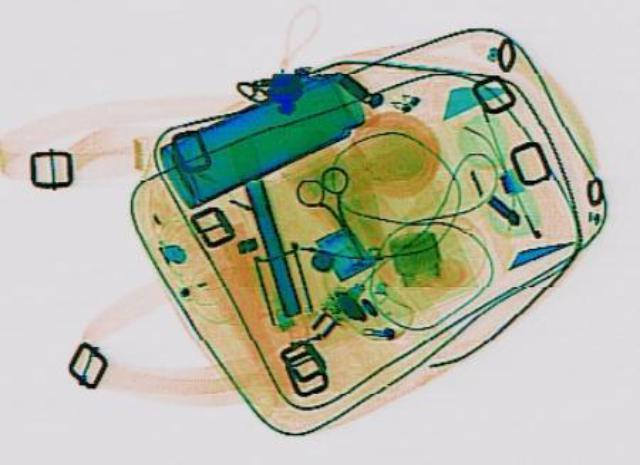Scissors: (284, 163, 388, 258)
